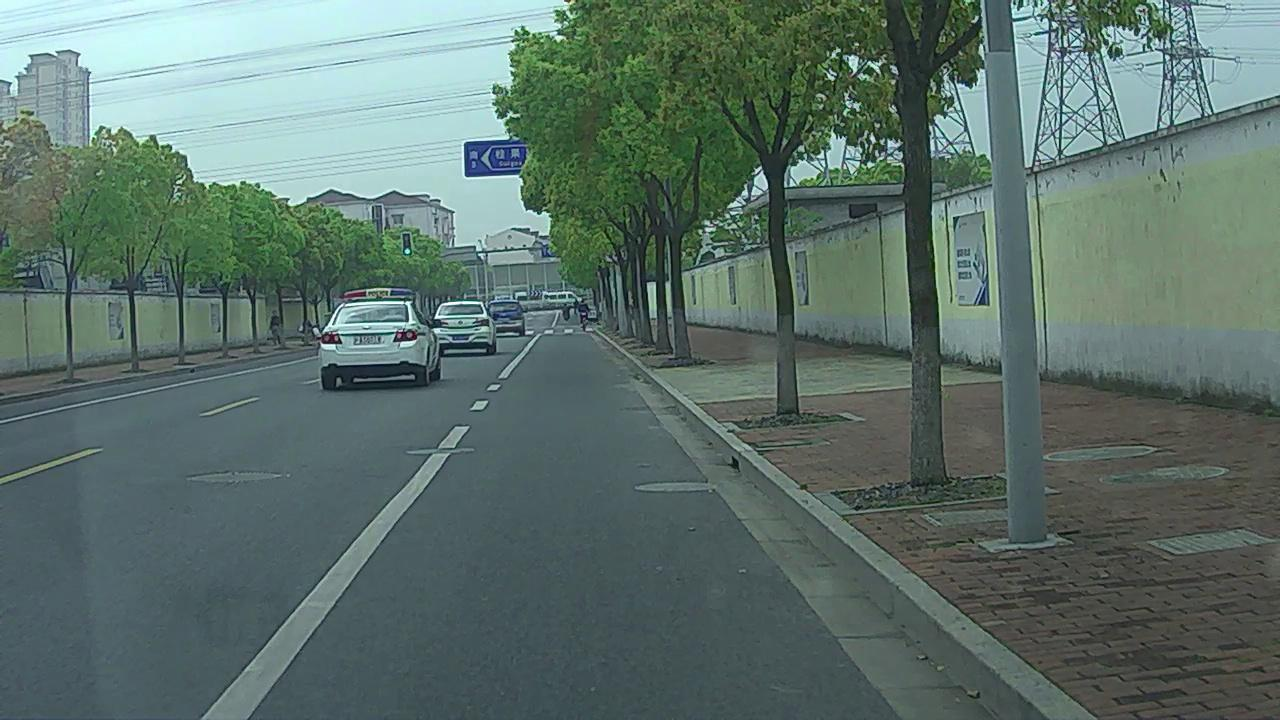traffic_light: (401, 232, 411, 254)
